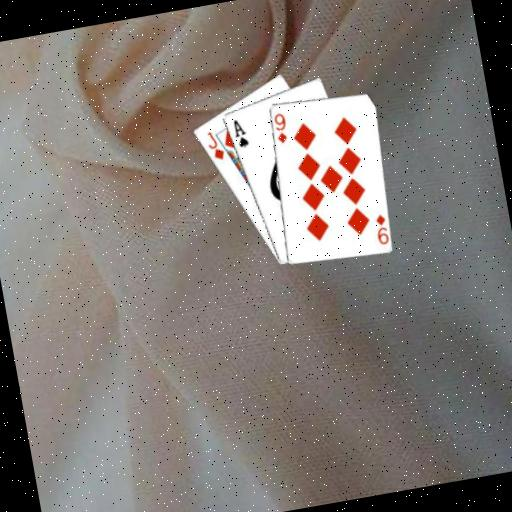9D: (370, 210, 391, 247), (270, 109, 291, 145)
AS: (228, 115, 250, 150)
JD: (202, 126, 226, 163)
